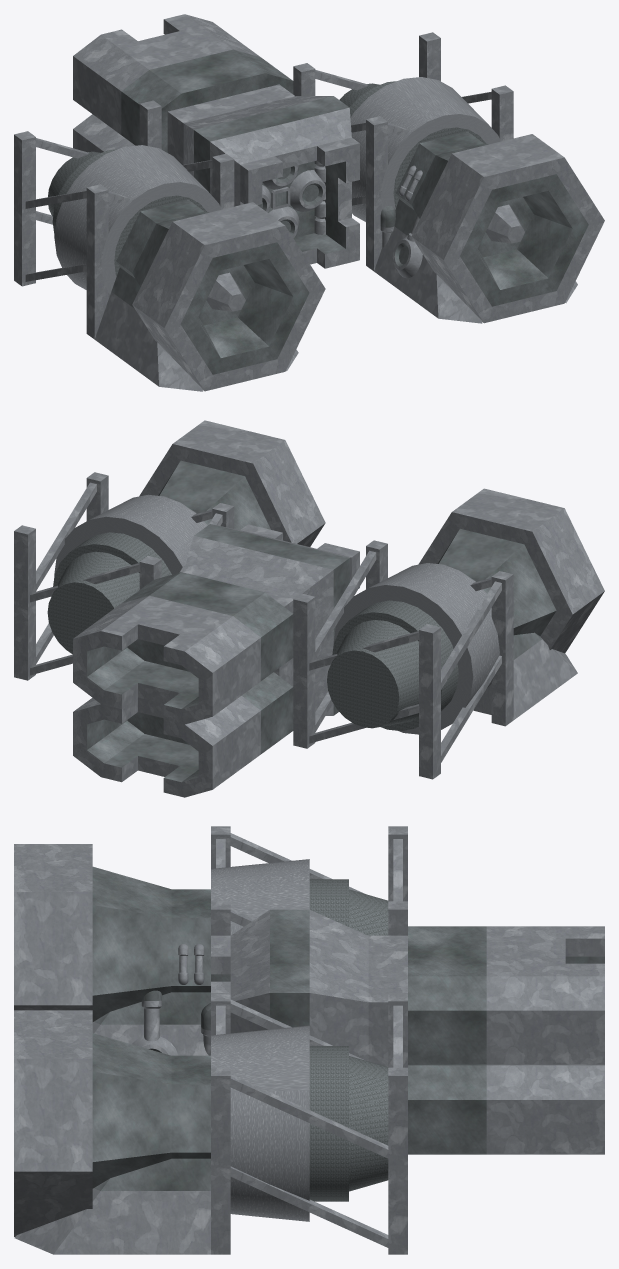
Rendered from EngineRoom.obj.
3 renders of one model, top to bottom at view 1: azimuth 30°, elevation 25°; view 2: azimuth 150°, elevation 25°; view 3: azimuth 270°, elevation 25°, orthographic. The views are drawn at different scales.
Parts seen in each view (by area): view 1: mergedBlocks; view 2: mergedBlocks; view 3: mergedBlocks.
Boxes of the visible parts, box(x1,y1,x2,y2) form: mergedBlocks: box(14, 14, 604, 391); mergedBlocks: box(14, 420, 604, 797); mergedBlocks: box(14, 826, 604, 1254).
Bounding box in the file's own units: 3.15 × 1.01 × 3.
